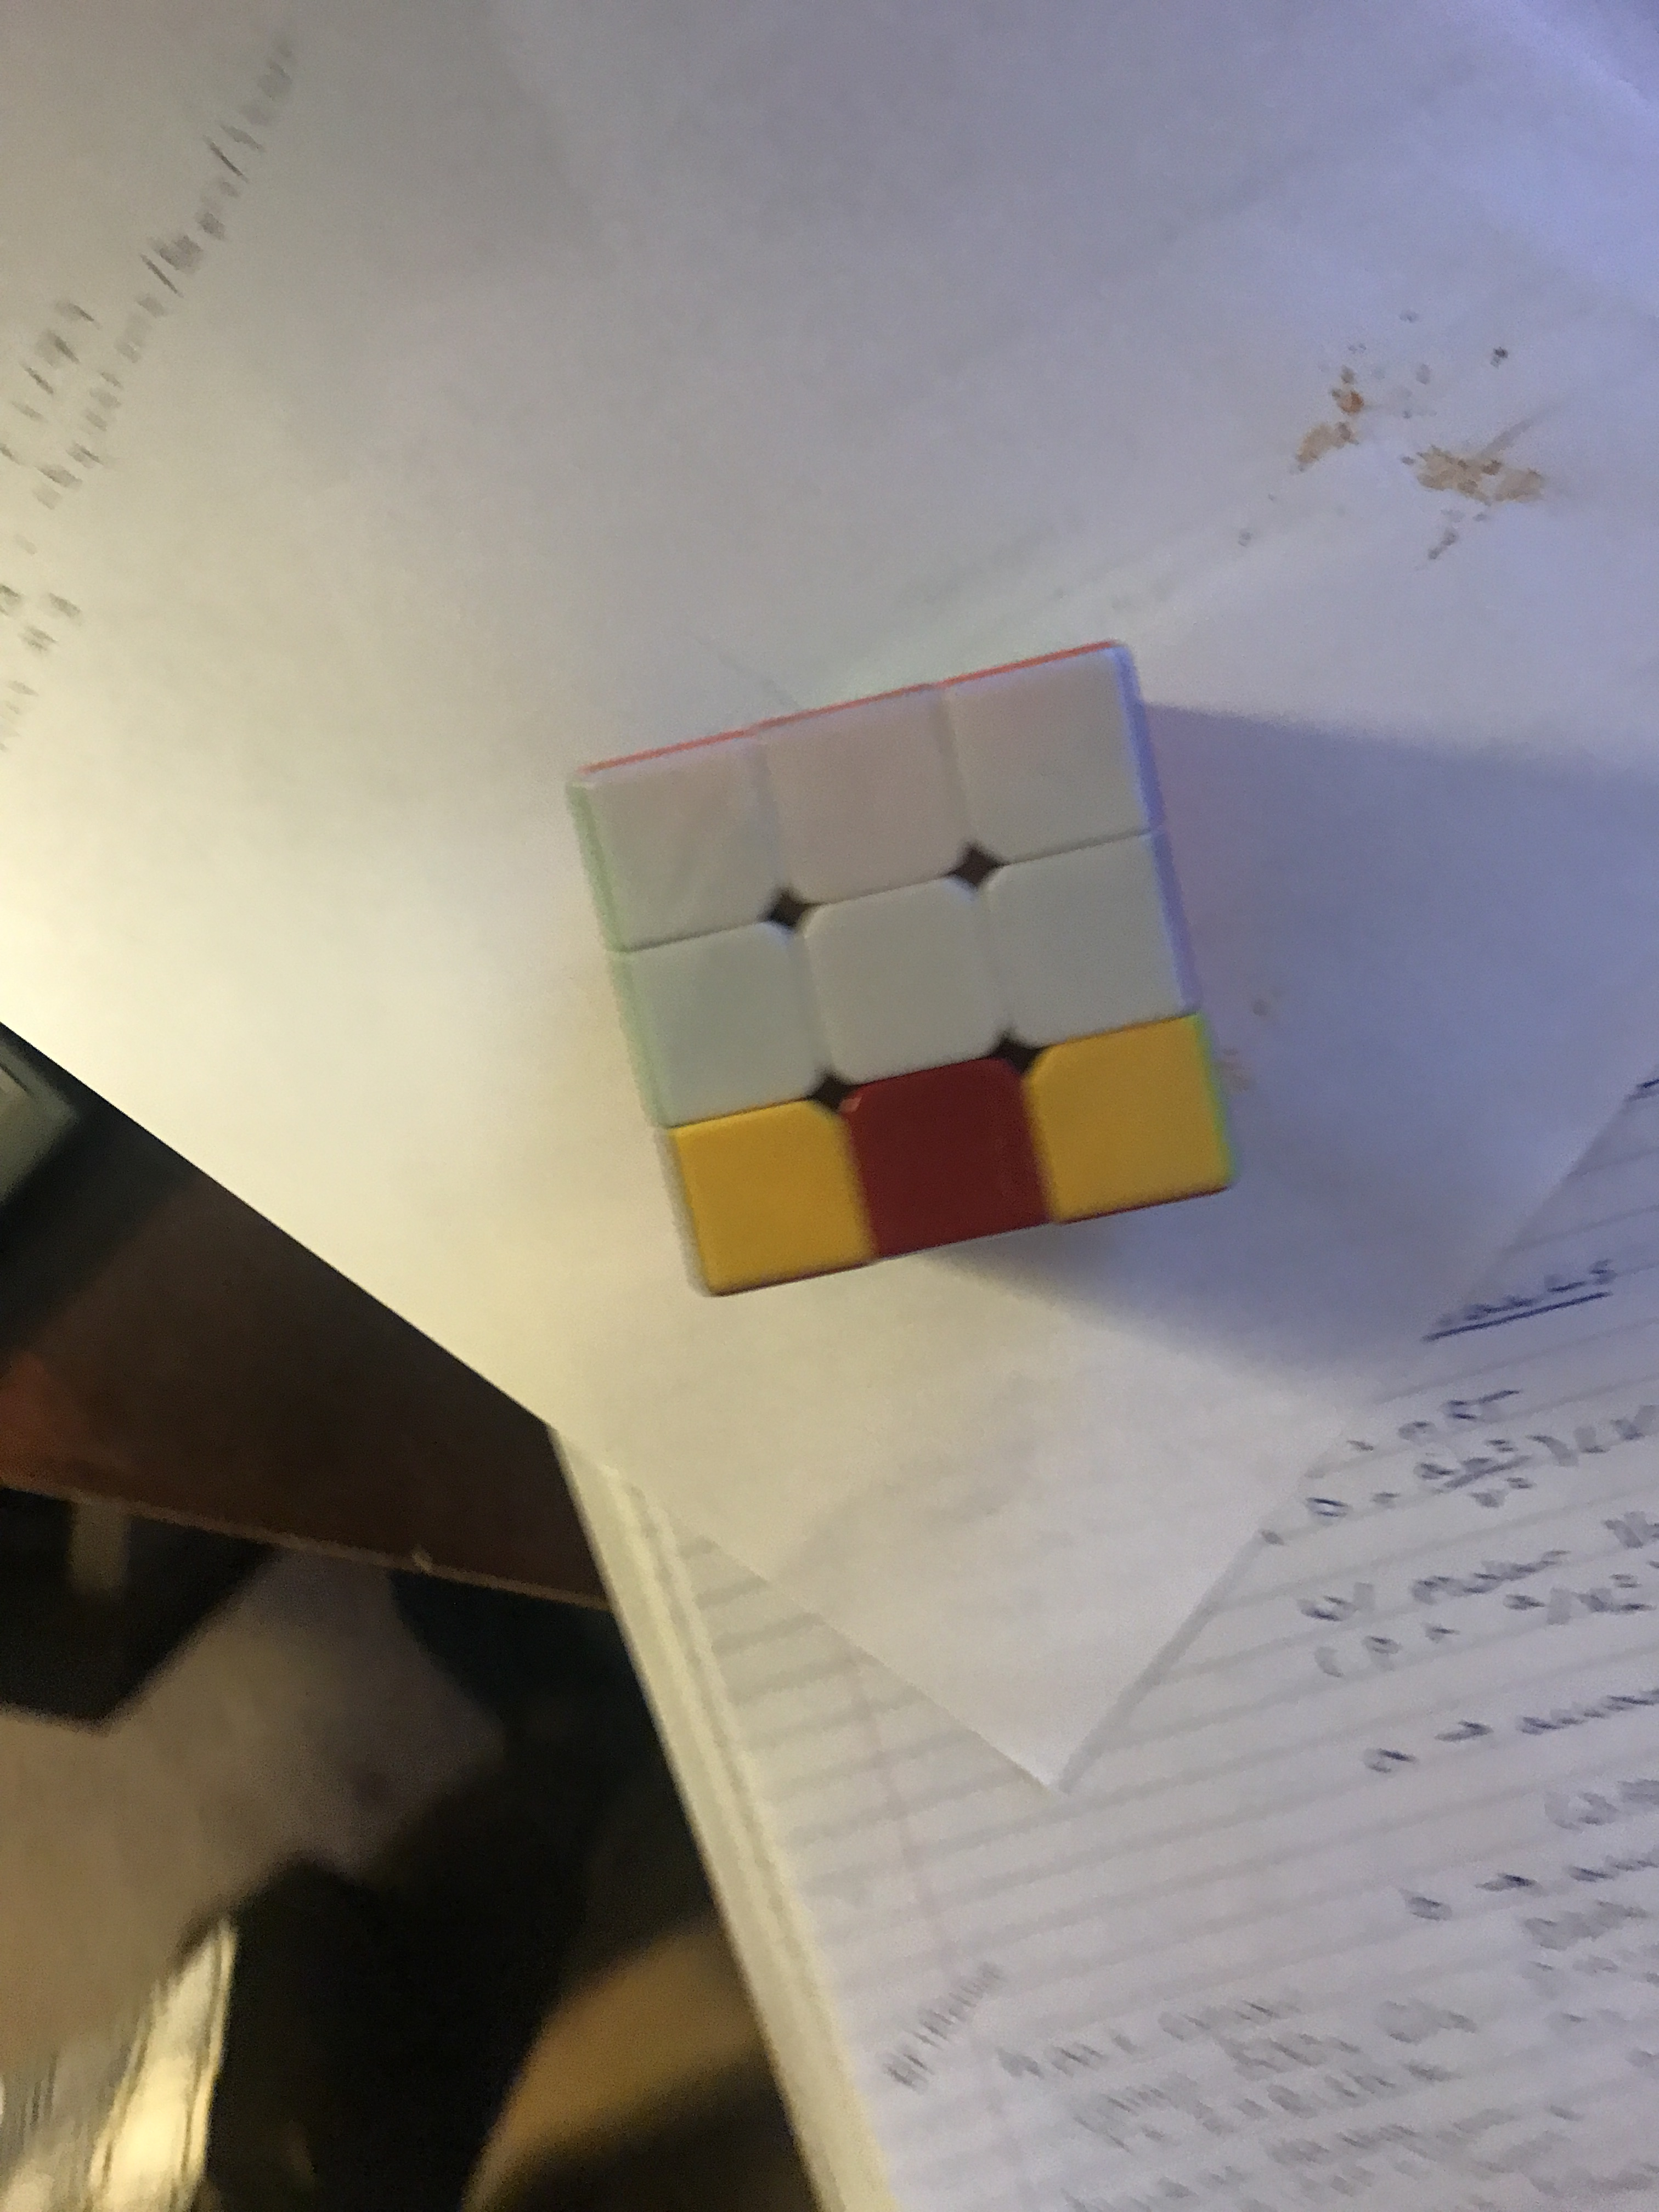rubiks: (570, 643, 1239, 1305)
